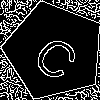C: (29, 26, 88, 84)
